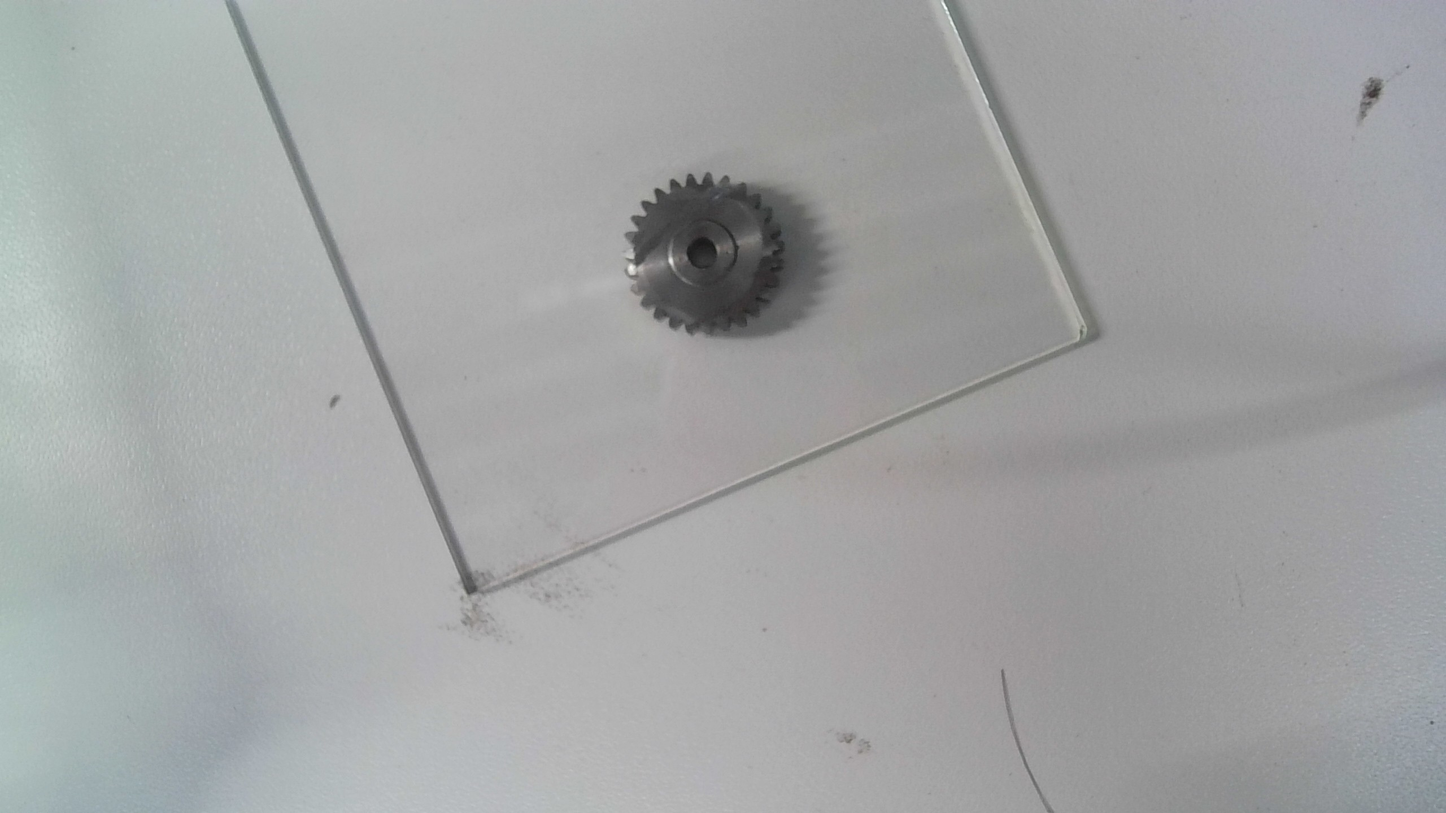gear: (619, 170, 790, 341)
